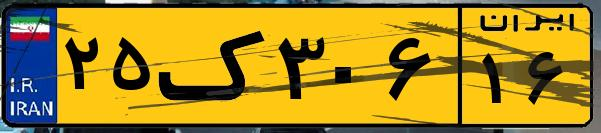0: (330, 28, 385, 110)
1: (475, 38, 525, 113)
2: (57, 26, 110, 100)
3: (270, 28, 330, 110)
5: (110, 28, 158, 98)
6: (385, 28, 445, 110), (525, 38, 570, 115)
ک: (158, 12, 270, 120)
